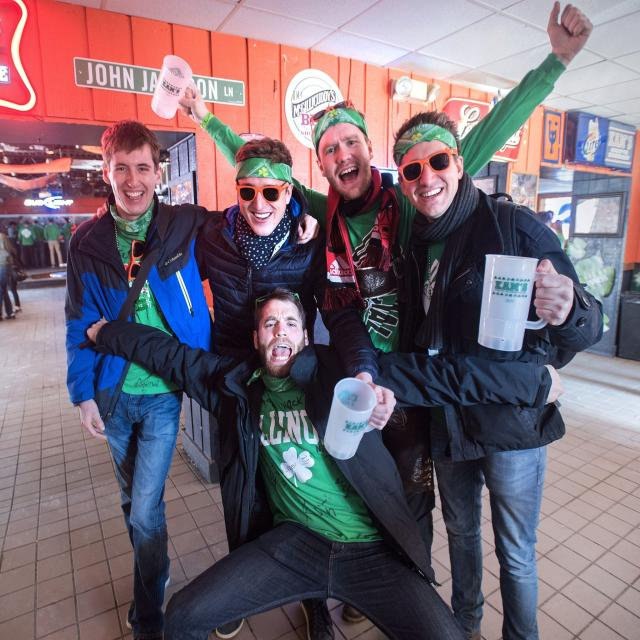body: (175, 0, 596, 568), (76, 276, 568, 640), (61, 116, 323, 640), (390, 110, 605, 640), (195, 134, 400, 640), (0, 211, 83, 321)
